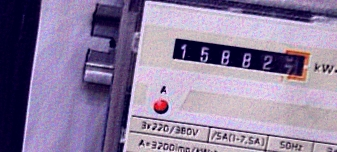1: (178, 42, 189, 59)
2: (261, 52, 274, 71)
5: (199, 45, 211, 62)
7: (283, 62, 293, 75)
8: (240, 50, 253, 69), (220, 49, 232, 66)
screen: (165, 28, 317, 87)
